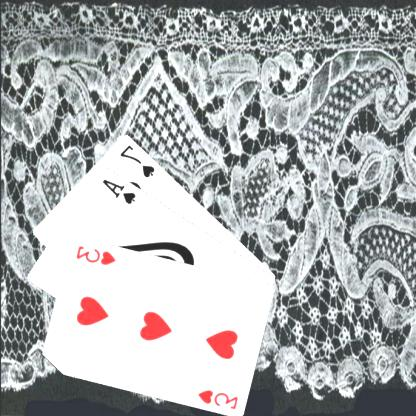3H: (196, 386, 241, 411), (74, 243, 119, 266)
7S: (119, 141, 158, 179)
AS: (101, 176, 139, 205)
